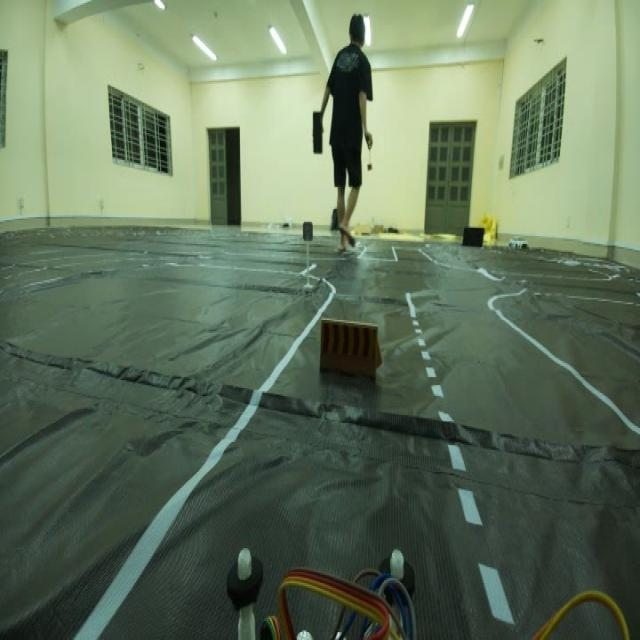roadblock: (308, 300, 391, 403)
